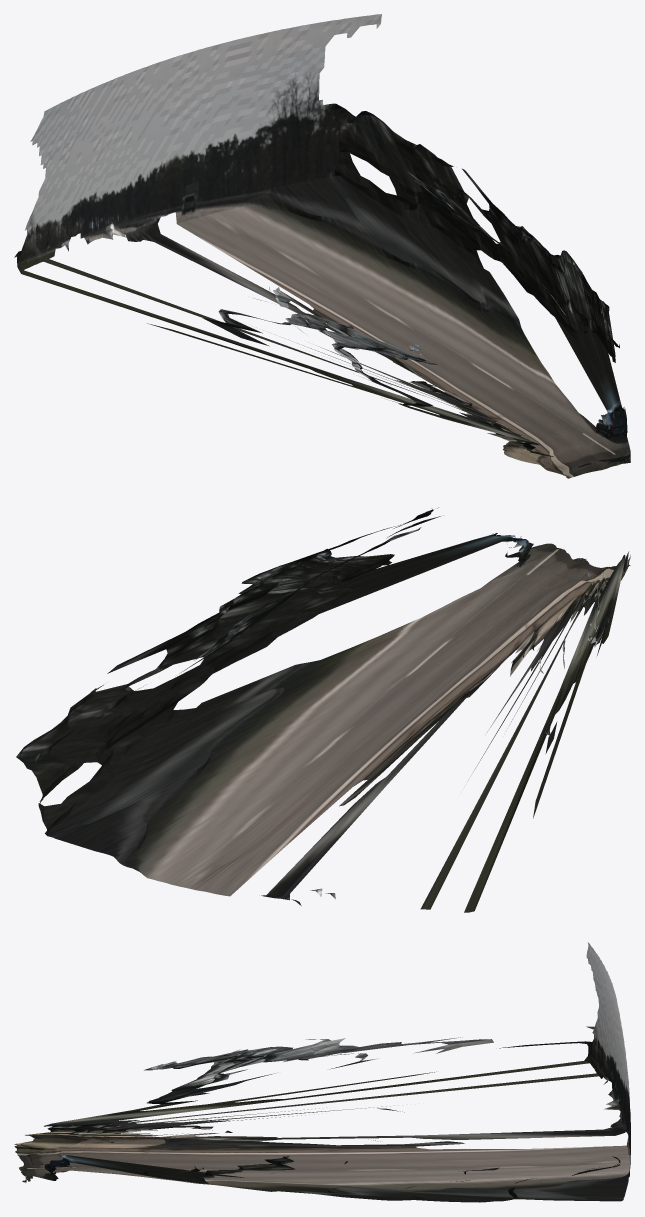
3 renders of one model, top to bottom at view 1: azimuth 30°, elevation 25°; view 2: azimuth 150°, elevation 25°; view 3: azimuth 270°, elevation 25°, orthographic. The views are drawn at different scales.
Visible parts, largest first — view 1: defaultobject; view 2: defaultobject; view 3: defaultobject.
Boxes of the visible parts, x1=… form: defaultobject: x1=14, y1=14, x2=630, y2=478; defaultobject: x1=16, y1=507, x2=630, y2=912; defaultobject: x1=14, y1=942, x2=630, y2=1202.
Size of the model in its own units: 26.88 by 11.89 by 44.82.
Materials: 1 (1 with a texture image).
